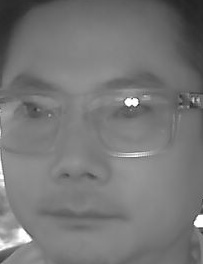glass: (93, 86, 179, 158), (3, 86, 65, 154)
mouth: (38, 193, 121, 236)
